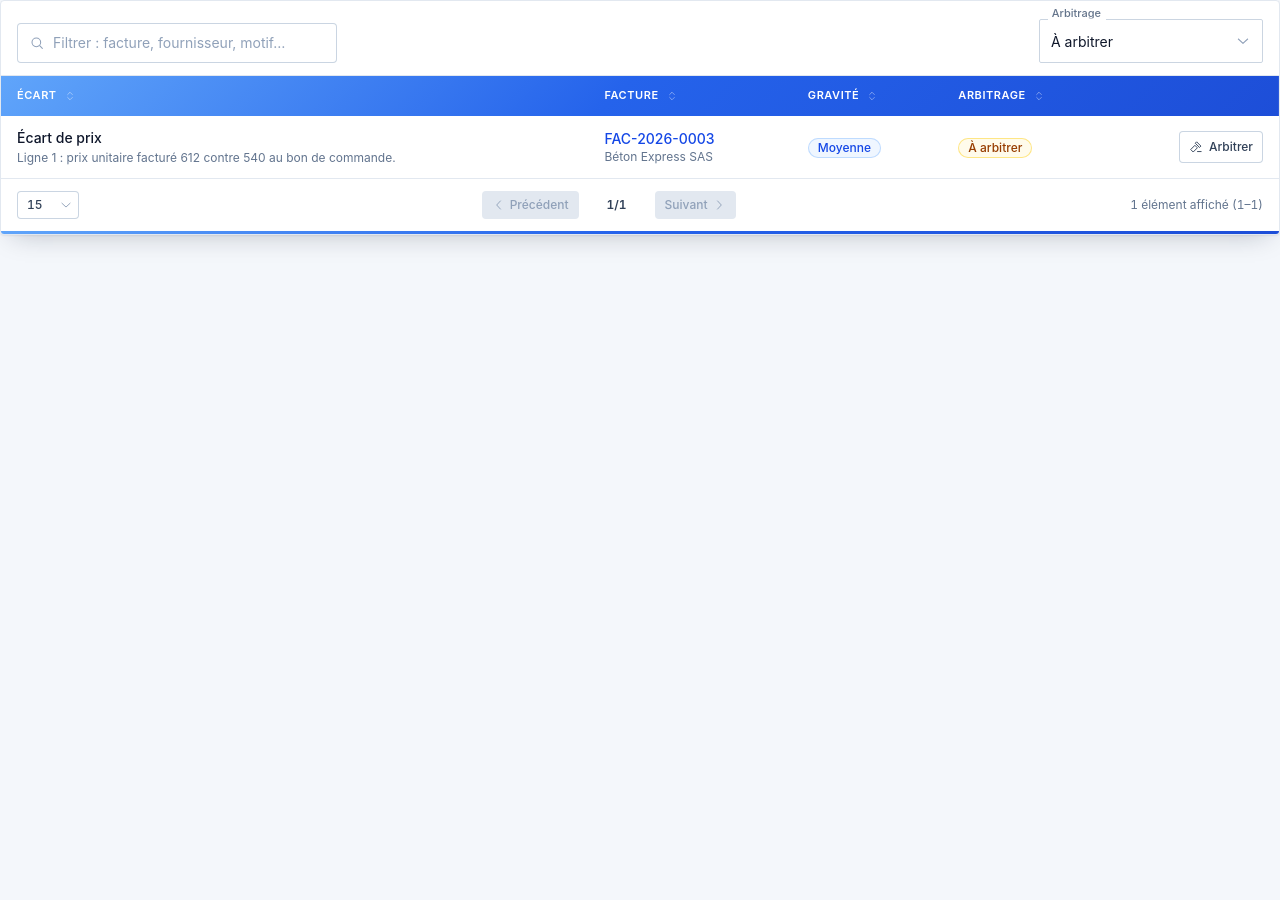
Test: ExceptionList › affiche l'erreur de validation renvoyée par le backend sous le champ concerné
Click the button "Arbitrer" at (1221, 147), box left=1179, top=131, right=1263, bottom=163
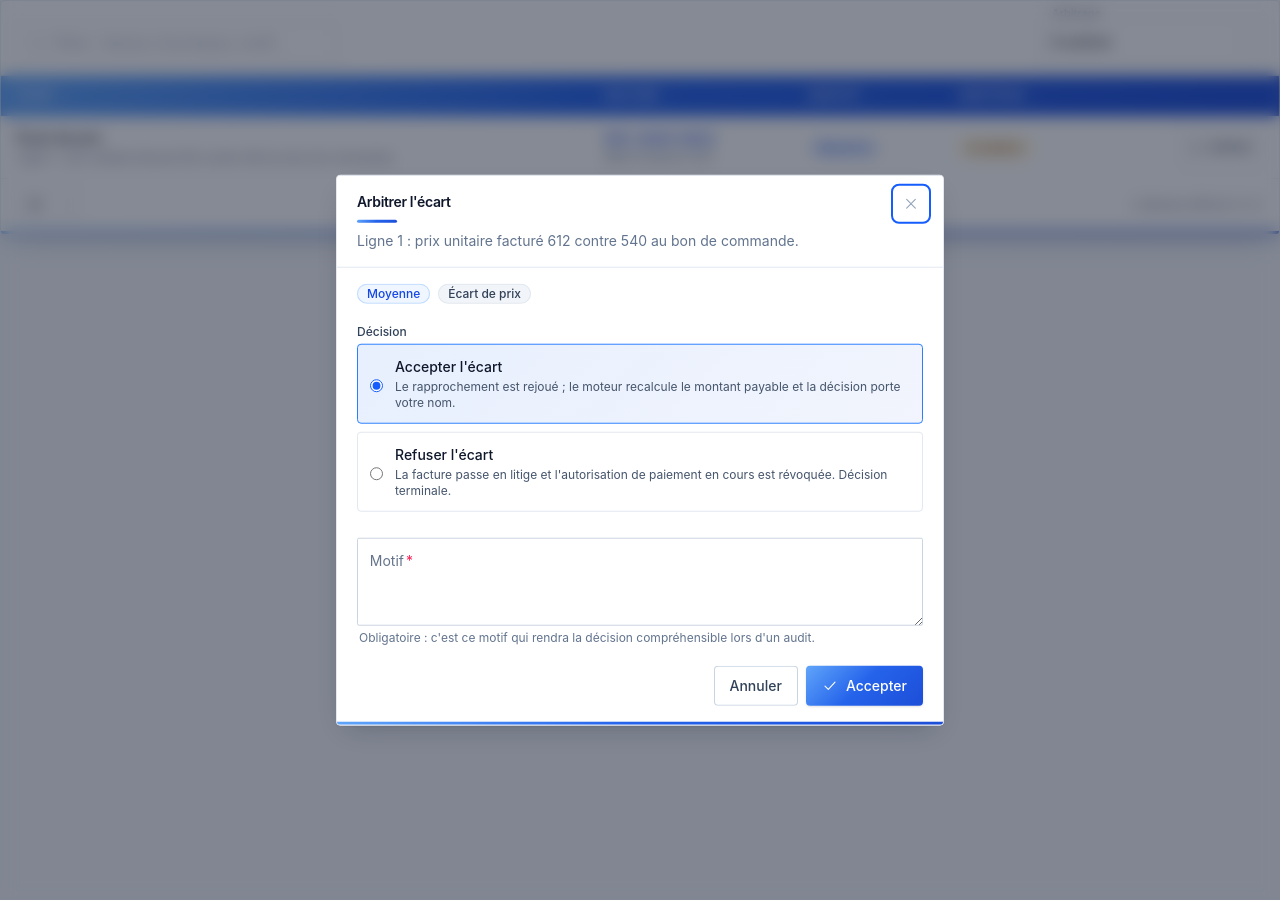
Type "abc" into the text box labelled "Motif*" at (640, 582), box left=357, top=538, right=923, bottom=625
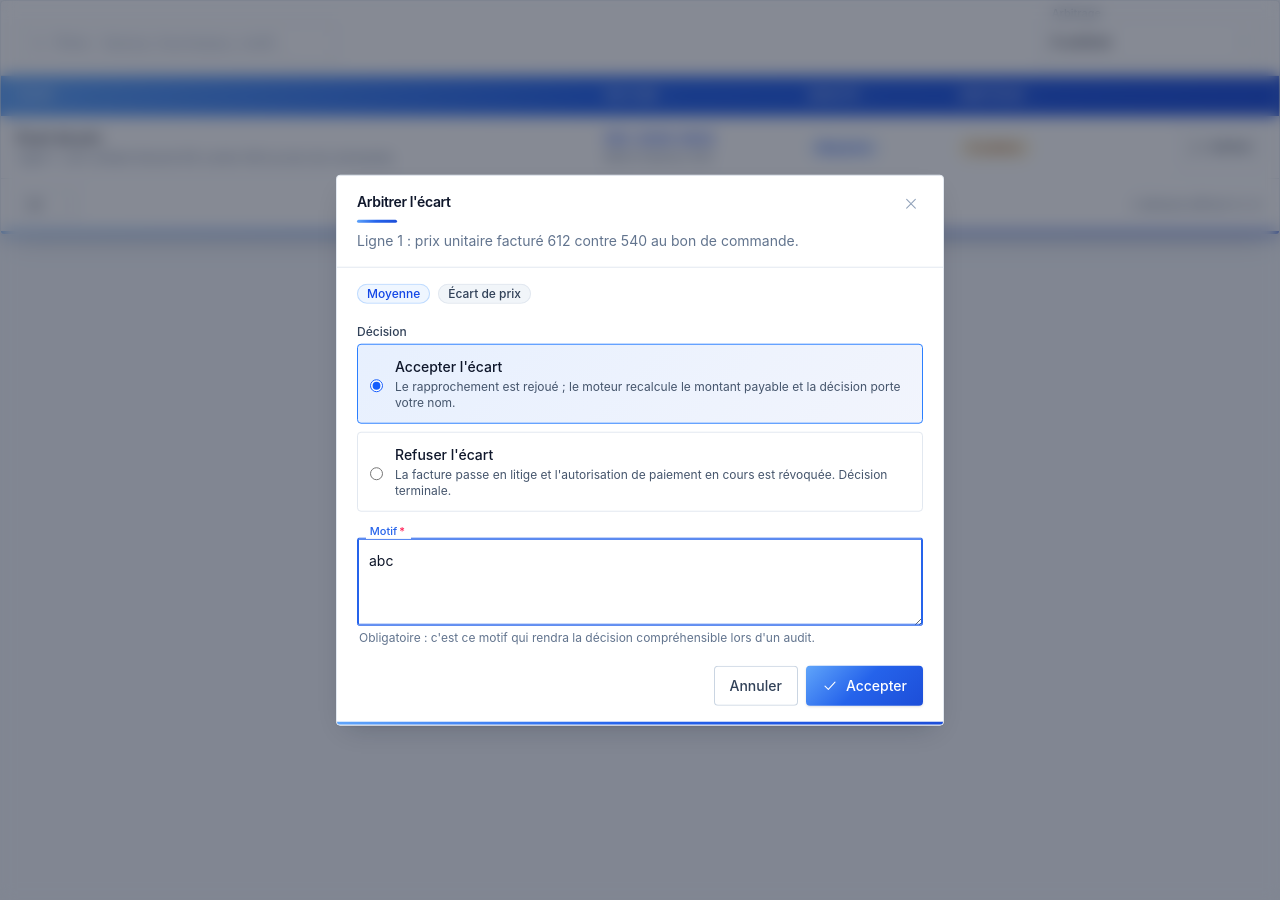
Click the button "Accepter" at (864, 685), box left=806, top=665, right=923, bottom=705
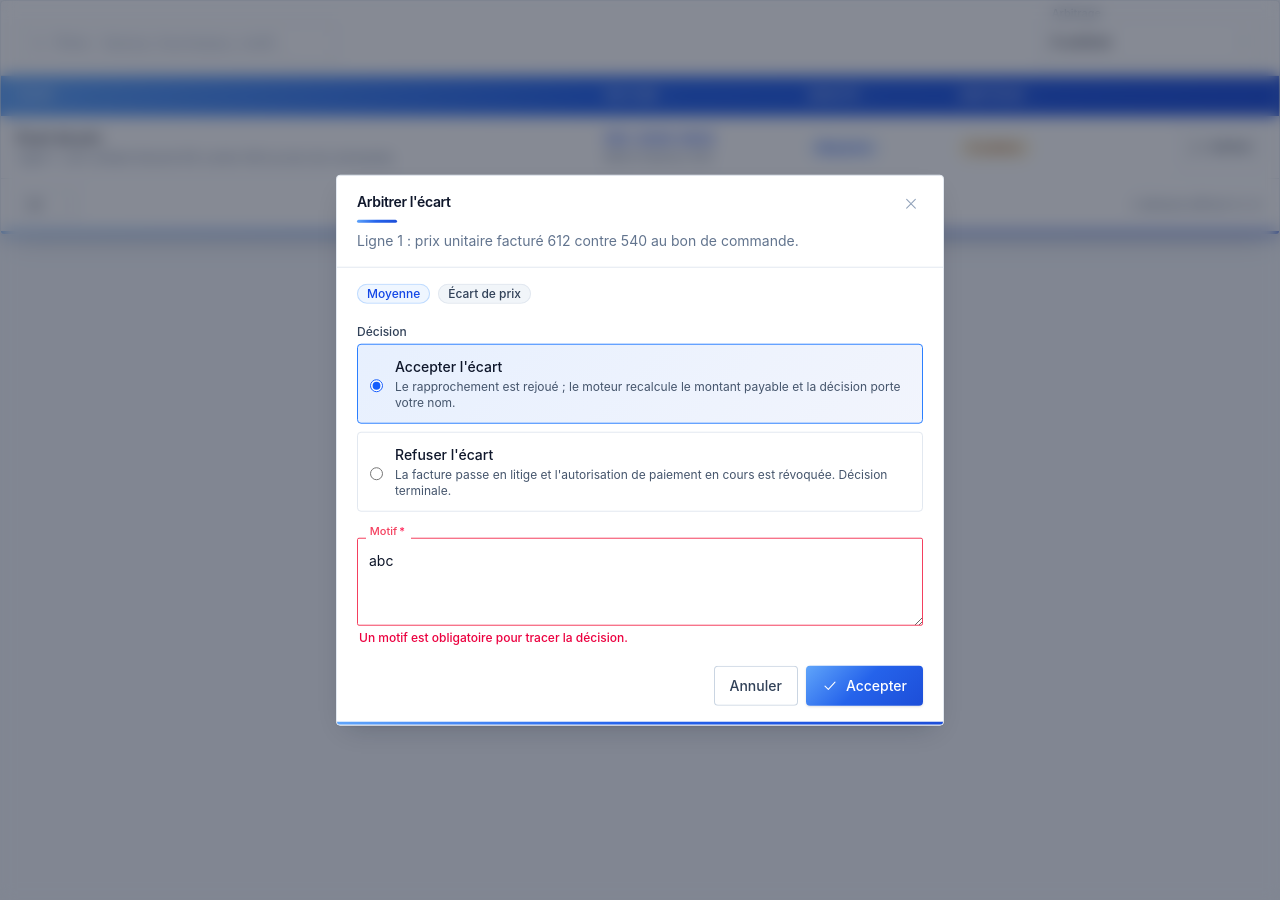
Now the text "Un motif est obligatoire pour tracer la décision." is shown, box left=359, top=629, right=628, bottom=644
